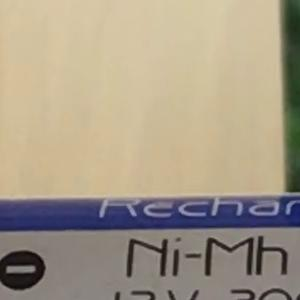keyword: (116, 226, 293, 288)
